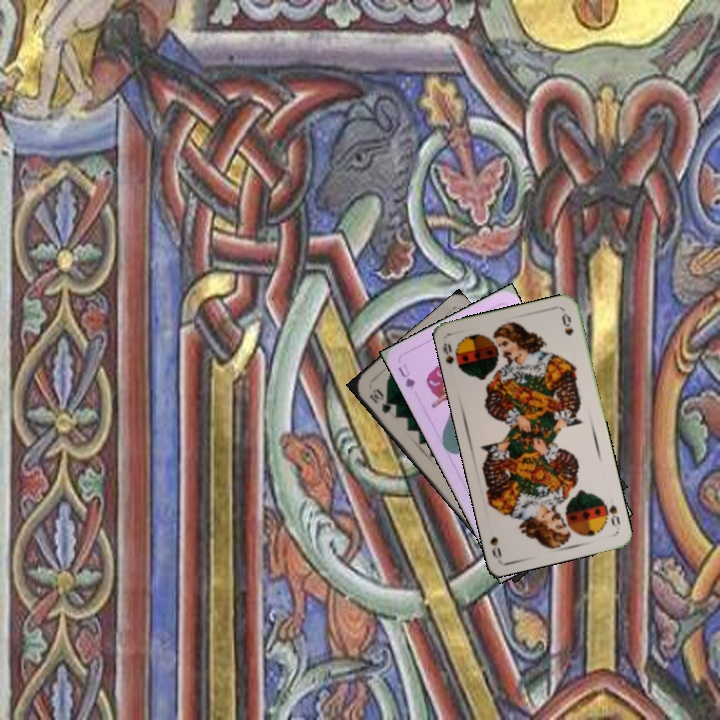G10: (365, 384, 394, 416)
GU: (394, 360, 418, 392)
SO: (439, 339, 465, 374), (599, 495, 623, 529)
